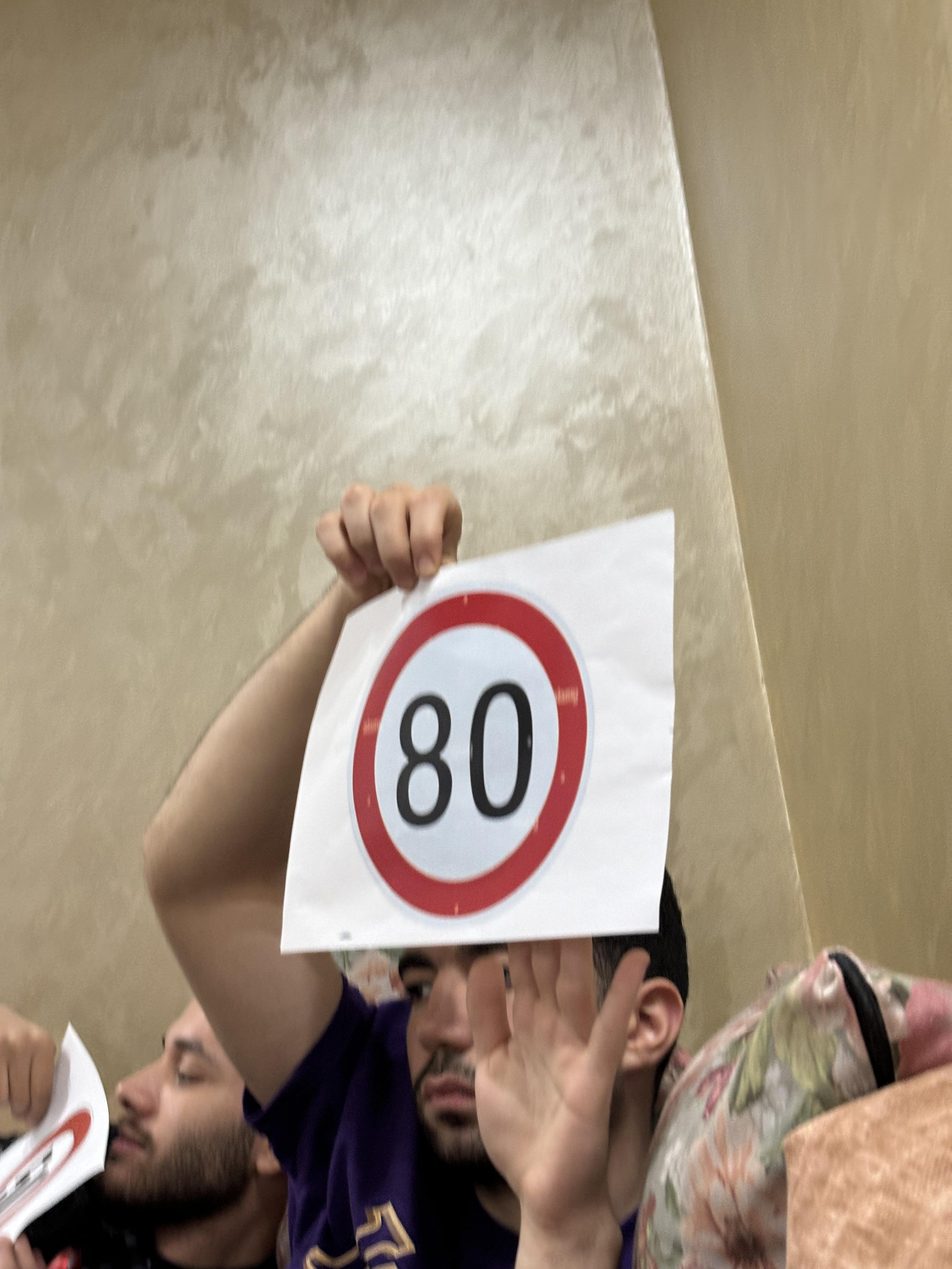80-Speed: (350, 583, 593, 923)
